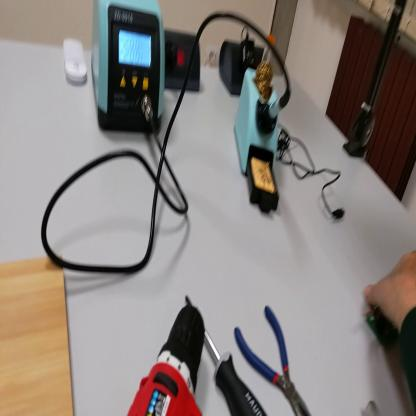electric screwdriver: (129, 304, 208, 415)
hand: (365, 252, 416, 337)
high voltage board: (366, 307, 398, 355)
pliers: (234, 307, 311, 414)
screwdriver-: (187, 296, 268, 415)
socket: (220, 36, 265, 96), (164, 26, 201, 94)
welder base: (234, 40, 291, 215)
welder station: (89, 2, 165, 137)
working area: (2, 255, 75, 414)
